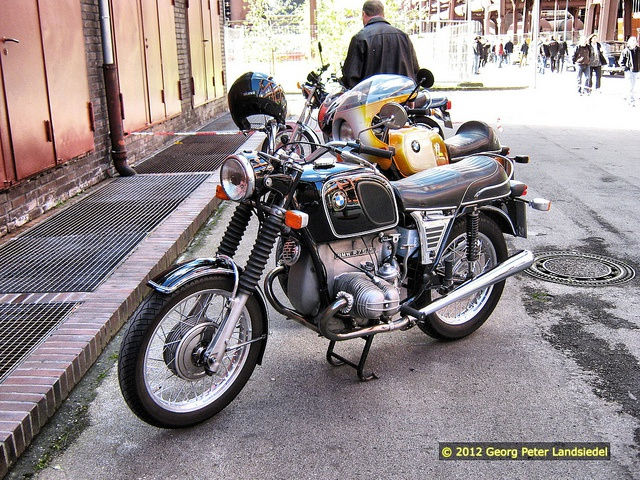non-vehicle: (116, 71, 553, 438), (335, 93, 492, 174)
